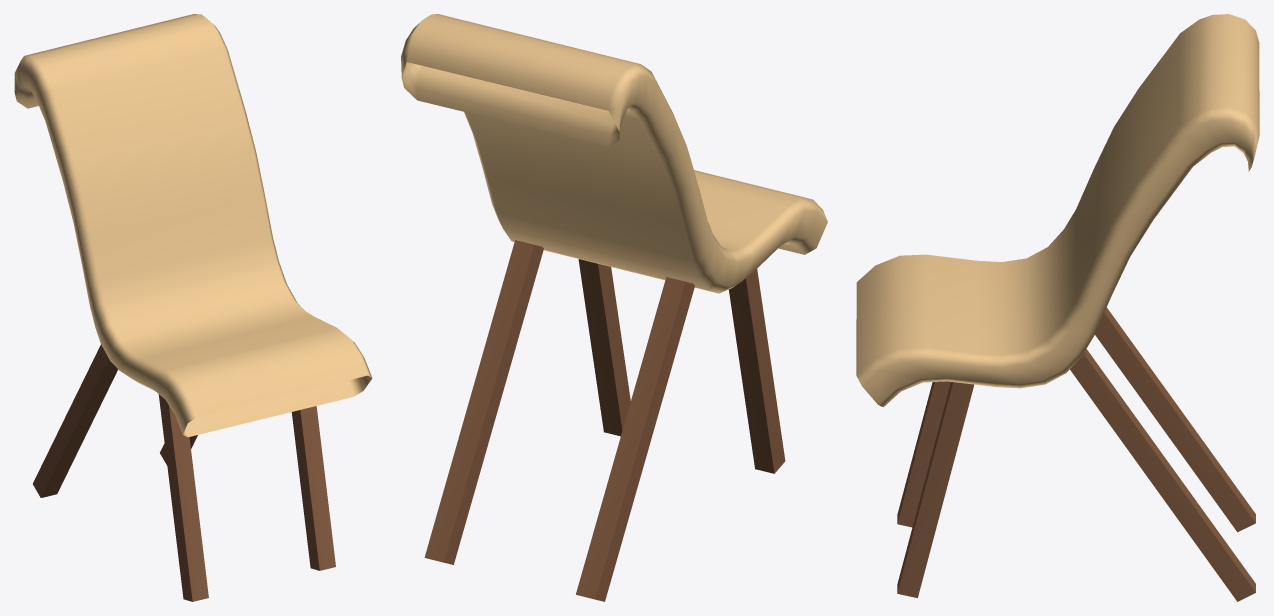
File: Chair.fbx
3 views of the same model, side by side, from view 1: azimuth 30°, elevation 25°; view 2: azimuth 150°, elevation 25°; view 3: azimuth 270°, elevation 25° (orthographic). The views are drawn at different scales.
Visible parts, largest first — view 1: Chair; view 2: Chair; view 3: Chair.
Part boxes in pixels (box(x1,y1,x2,y2)): Chair: box(14, 14, 372, 601); Chair: box(401, 14, 827, 601); Chair: box(856, 14, 1259, 601).
Size of the model in its own units: 1353 by 3141 by 2286.
Materials: 1 (1 with a texture image).
